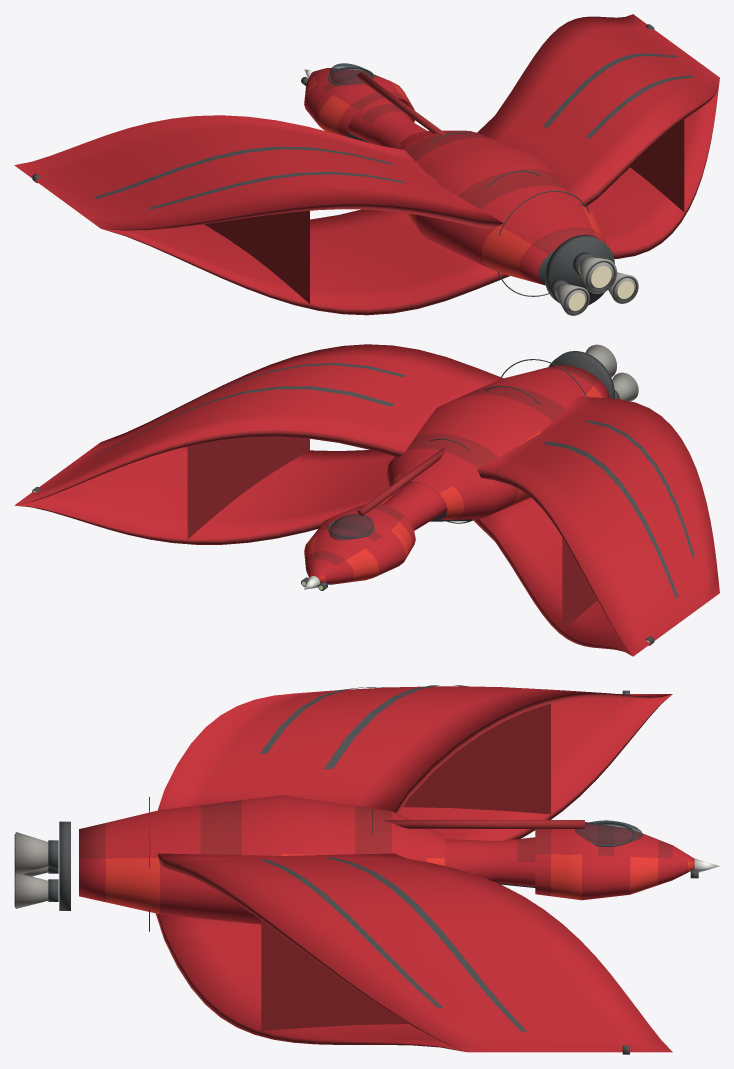
File: Ship_Talonhunter_647300.glb
3 views of the same model, one above another, from view 1: azimuth 30°, elevation 25°; view 2: azimuth 150°, elevation 25°; view 3: azimuth 270°, elevation 25° (orthographic). The views are drawn at different scales.
Visible parts, largest first — view 1: WingUpper_Left_ForwardSweptCrescentPlate, WingUpper_Right_ForwardSweptCrescentPlate, WingLower_Right_ForwardSweptCrescentPlate.001, ReactorBody_AftOvalCore, WingLower_Right_ForwardSweptCrescentPlate, WingMidRib_Left_OpenGapSupportStrut, CommandHead_BeakedForwardPod, WingMidRib_Right_OpenGapSupportStrut, CommandNeck_NarrowForwardSpine, EngineDeck_AftCompactMountPlate, WingPanelLine_Left_Upper_PrimaryCurvedSpar, EngineEmitter (+7 smaller); view 2: WingUpper_Left_ForwardSweptCrescentPlate, WingUpper_Right_ForwardSweptCrescentPlate, WingLower_Right_ForwardSweptCrescentPlate, ReactorBody_AftOvalCore, WingLower_Right_ForwardSweptCrescentPlate.001, WingMidRib_Right_OpenGapSupportStrut, CommandHead_BeakedForwardPod, CommandNeck_NarrowForwardSpine, WingMidRib_Left_OpenGapSupportStrut, EngineDeck_AftCompactMountPlate, WingPanelLine_Left_Upper_PrimaryCurvedSpar, CanopyGlass_LowCommandEye (+6 smaller); view 3: WingUpper_Right_ForwardSweptCrescentPlate, WingUpper_Left_ForwardSweptCrescentPlate, ReactorBody_AftOvalCore, WingLower_Right_ForwardSweptCrescentPlate, WingLower_Right_ForwardSweptCrescentPlate.001, WingMidRib_Left_OpenGapSupportStrut, CommandHead_BeakedForwardPod, WingMidRib_Right_OpenGapSupportStrut, CommandNeck_NarrowForwardSpine, DorsalSpine_CommandRidge, WingPanelLine_Right_Upper_PrimaryCurvedSpar, CanopyGlass_LowCommandEye (+5 smaller).
Part boxes in pixels (x1=…): WingUpper_Left_ForwardSweptCrescentPlate: x1=14, y1=115, x2=503, y2=230; WingUpper_Right_ForwardSweptCrescentPlate: x1=477, y1=14, x2=719, y2=206; WingLower_Right_ForwardSweptCrescentPlate.001: x1=101, y1=209, x2=509, y2=315; ReactorBody_AftOvalCore: x1=396, y1=130, x2=605, y2=285; WingLower_Right_ForwardSweptCrescentPlate: x1=587, y1=80, x2=719, y2=258; WingMidRib_Left_OpenGapSupportStrut: x1=204, y1=209, x2=309, y2=305; CommandHead_BeakedForwardPod: x1=304, y1=68, x2=414, y2=143; WingMidRib_Right_OpenGapSupportStrut: x1=630, y1=120, x2=684, y2=212; CommandNeck_NarrowForwardSpine: x1=348, y1=98, x2=426, y2=148; EngineDeck_AftCompactMountPlate: x1=545, y1=234, x2=614, y2=305; WingPanelLine_Left_Upper_PrimaryCurvedSpar: x1=94, y1=146, x2=393, y2=198; EngineEmitter: x1=568, y1=266, x2=634, y2=310; WingUpper_Left_ForwardSweptCrescentPlate: x1=477, y1=396, x2=719, y2=656; WingUpper_Right_ForwardSweptCrescentPlate: x1=14, y1=344, x2=503, y2=505; WingLower_Right_ForwardSweptCrescentPlate: x1=15, y1=446, x2=394, y2=544; ReactorBody_AftOvalCore: x1=386, y1=364, x2=609, y2=521; WingLower_Right_ForwardSweptCrescentPlate.001: x1=472, y1=497, x2=632, y2=656; WingMidRib_Right_OpenGapSupportStrut: x1=187, y1=436, x2=309, y2=539; CommandHead_BeakedForwardPod: x1=304, y1=505, x2=415, y2=584; CommandNeck_NarrowForwardSpine: x1=381, y1=481, x2=447, y2=530; WingMidRib_Left_OpenGapSupportStrut: x1=562, y1=538, x2=597, y2=630; EngineDeck_AftCompactMountPlate: x1=548, y1=351, x2=614, y2=398; WingPanelLine_Left_Upper_PrimaryCurvedSpar: x1=544, y1=441, x2=678, y2=598; CanopyGlass_LowCommandEye: x1=329, y1=514, x2=373, y2=540; WingUpper_Right_ForwardSweptCrescentPlate: x1=157, y1=853, x2=672, y2=1052; WingUpper_Left_ForwardSweptCrescentPlate: x1=157, y1=686, x2=672, y2=813; ReactorBody_AftOvalCore: x1=79, y1=795, x2=444, y2=924; WingLower_Right_ForwardSweptCrescentPlate: x1=155, y1=913, x2=465, y2=1051; WingLower_Right_ForwardSweptCrescentPlate.001: x1=399, y1=694, x2=672, y2=840; WingMidRib_Left_OpenGapSupportStrut: x1=403, y1=704, x2=550, y2=814; CommandHead_BeakedForwardPod: x1=535, y1=822, x2=694, y2=900; WingMidRib_Right_OpenGapSupportStrut: x1=261, y1=919, x2=408, y2=1032; CommandNeck_NarrowForwardSpine: x1=444, y1=837, x2=535, y2=887; DorsalSpine_CommandRidge: x1=384, y1=820, x2=584, y2=828; WingPanelLine_Right_Upper_PrimaryCurvedSpar: x1=325, y1=857, x2=526, y2=1031; CanopyGlass_LowCommandEye: x1=575, y1=820, x2=642, y2=844.
Size of the model in its own units: 7.76 by 1.41 by 6.46.
